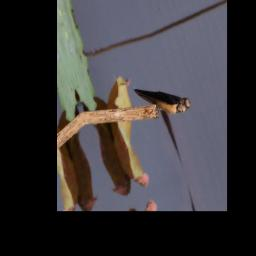Swallow: (131, 67, 192, 131)
